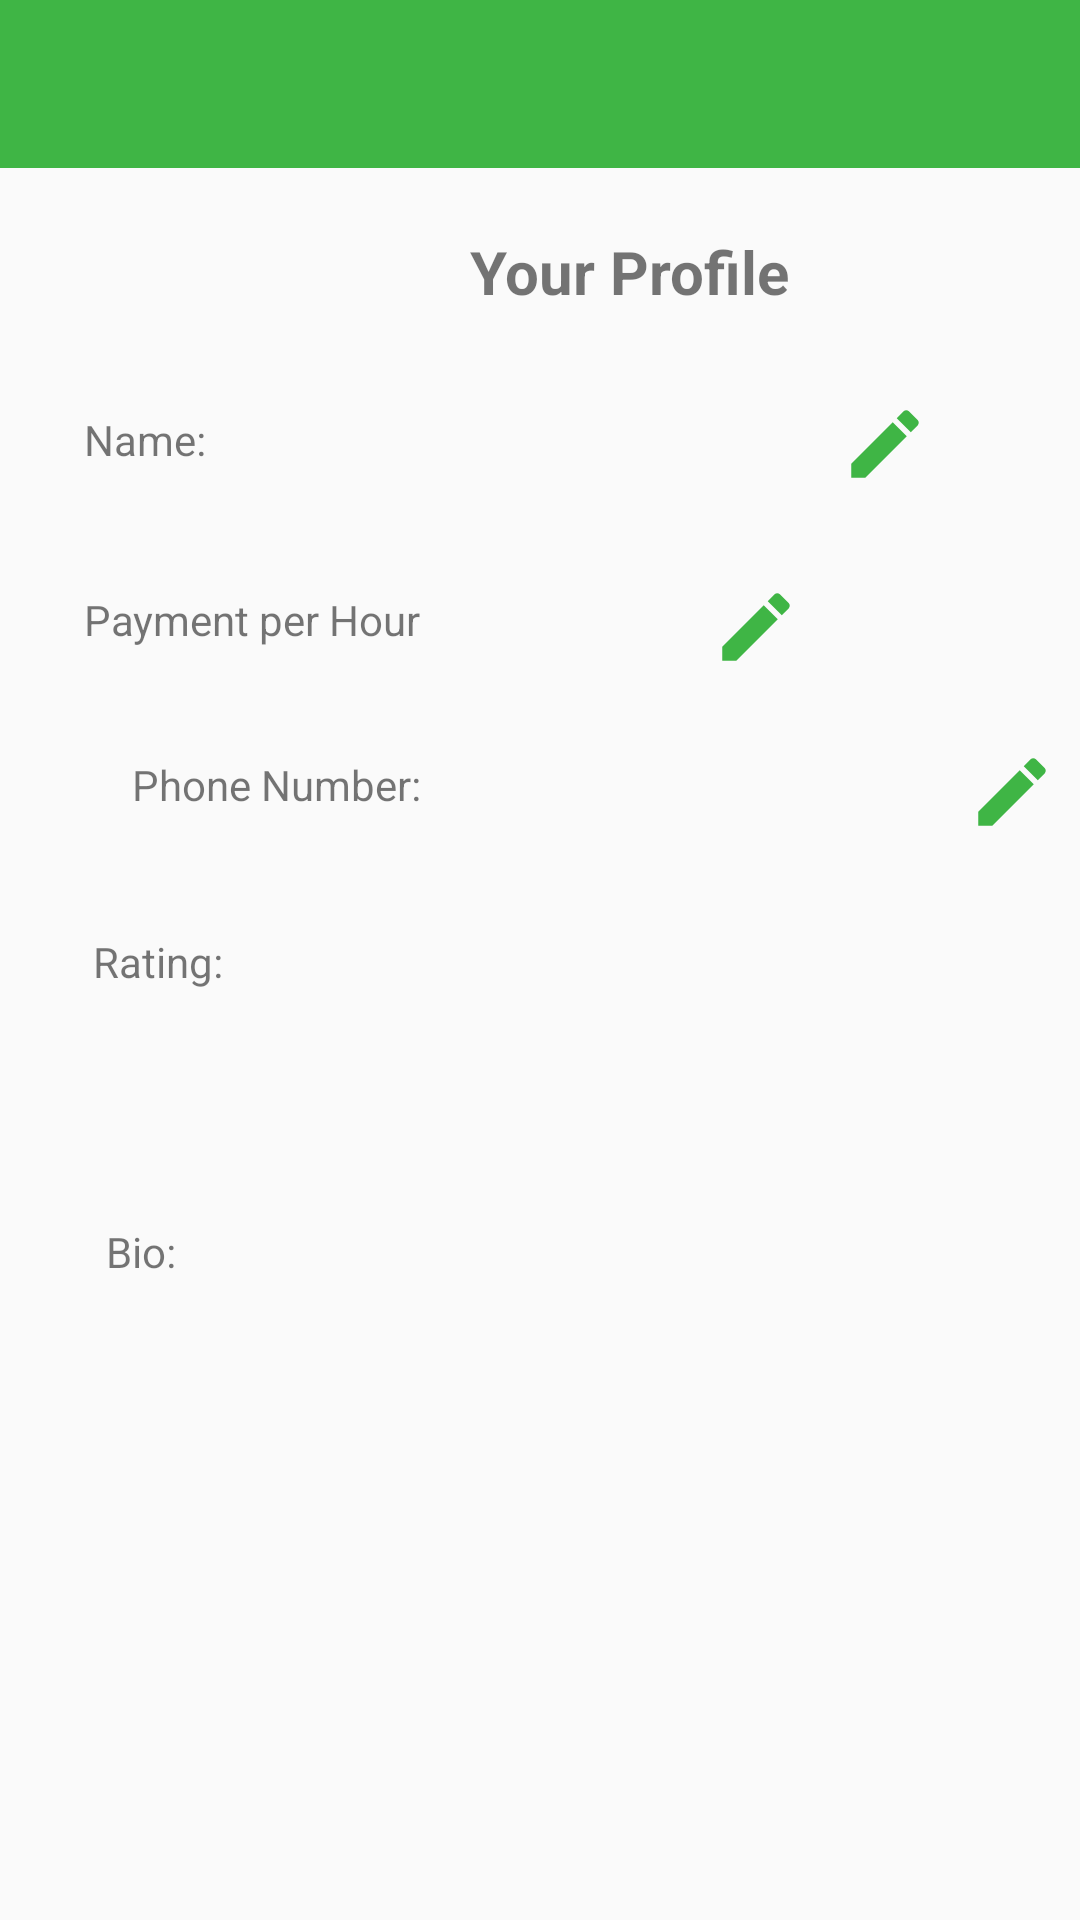

Named icons in this screenshot (1080w x 1920h) and their centers, (x,y):
edit pencil: (885,444), (756,627), (1012,792)
